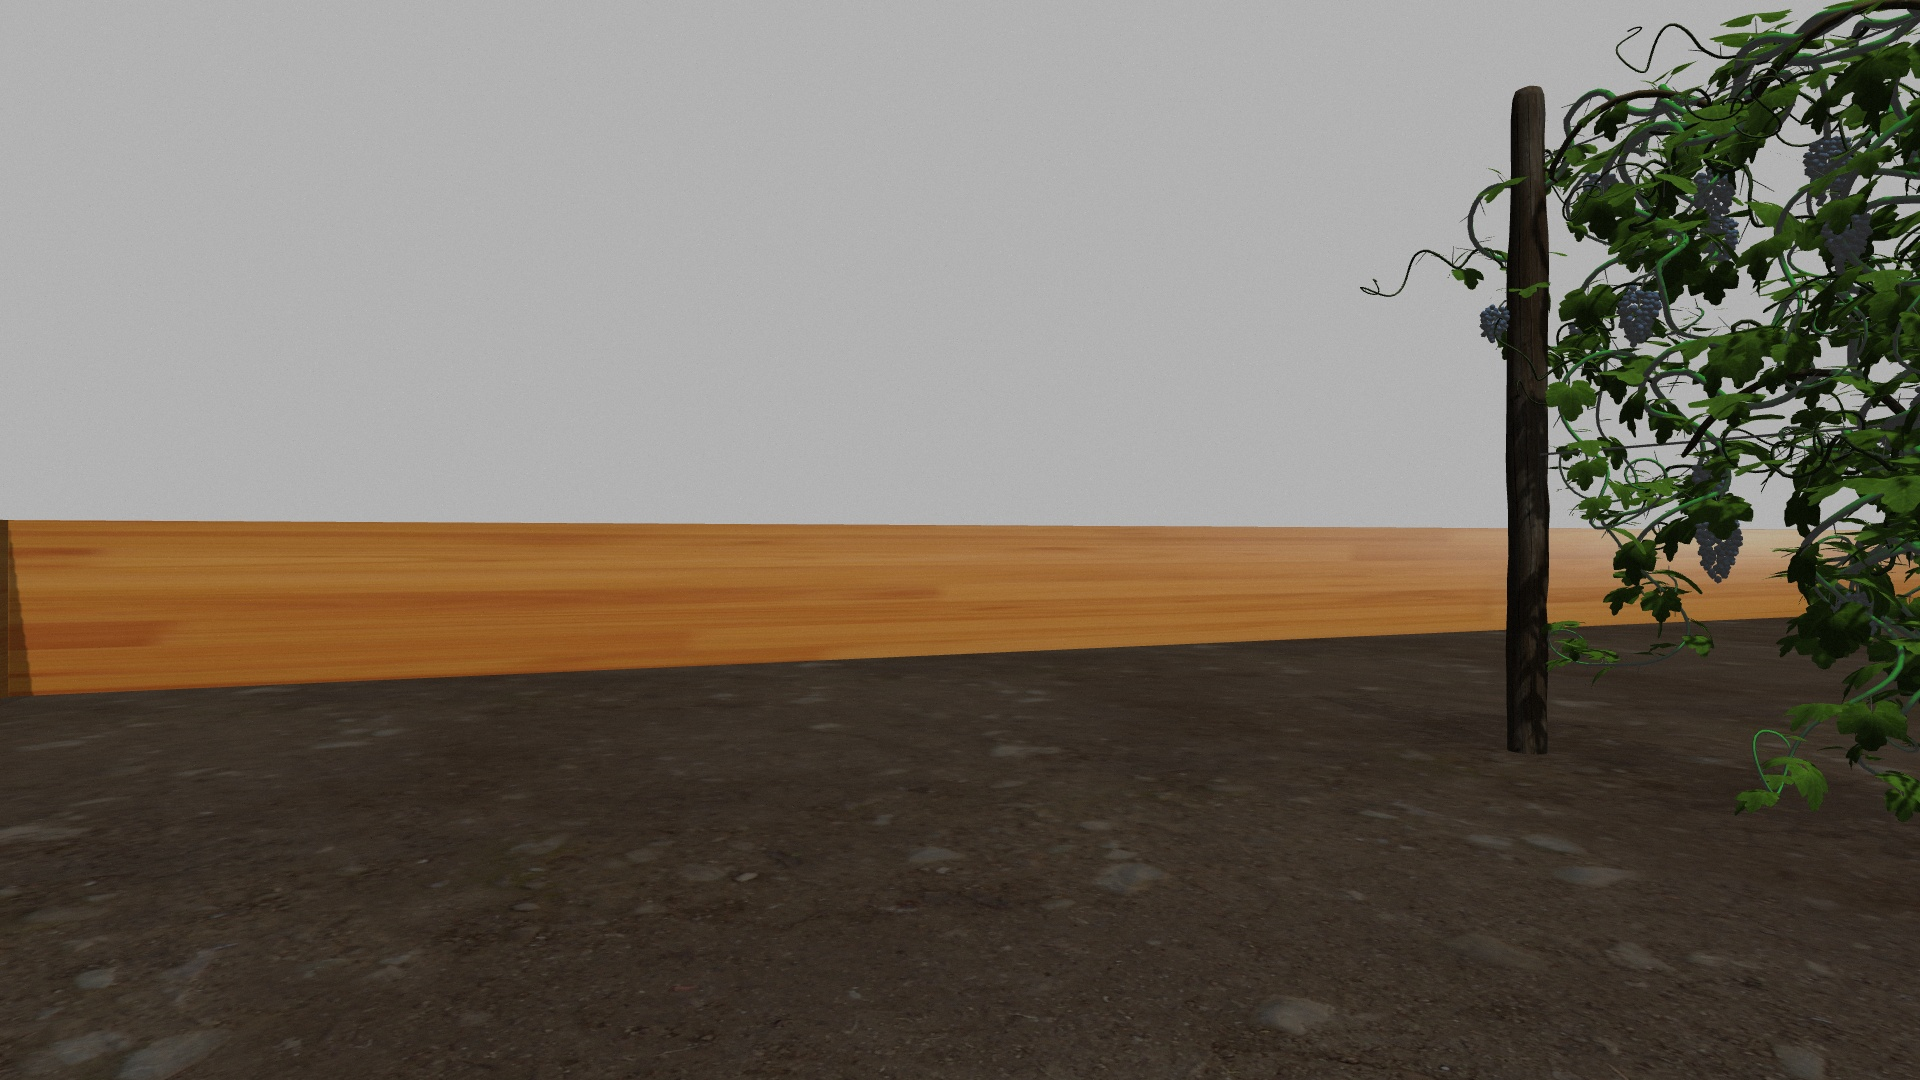grape: (1818, 204, 1873, 276), (1803, 140, 1859, 203), (1695, 513, 1745, 584), (1617, 281, 1663, 348), (1697, 218, 1741, 262), (1693, 173, 1735, 218), (1478, 303, 1511, 339)
